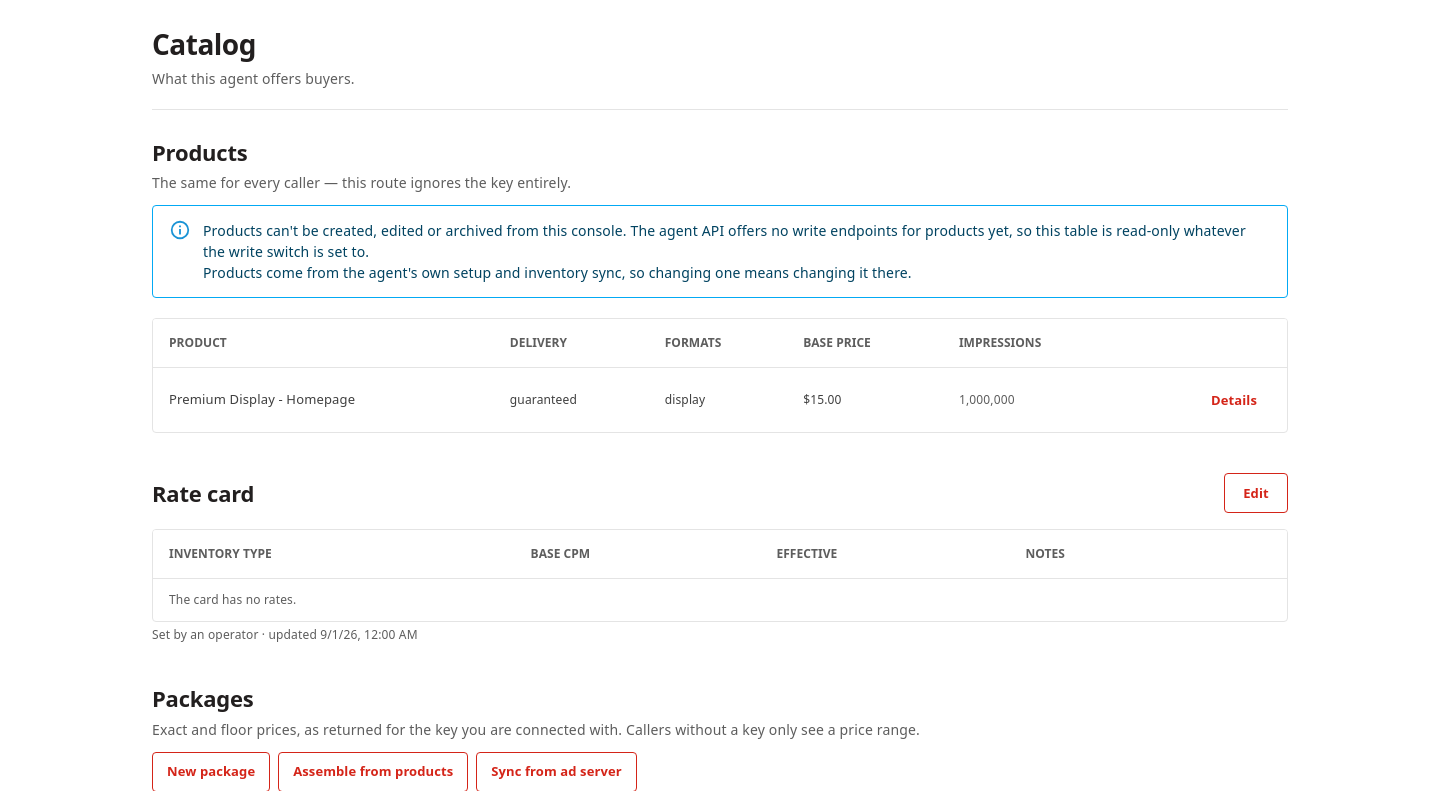
Scenario: inventory type override writes › re-reads the open product's override after deleting it
The width and height of the screenshot is (1440, 791).
Click the button "Details" at (1234, 400), box [1197, 380, 1271, 420]
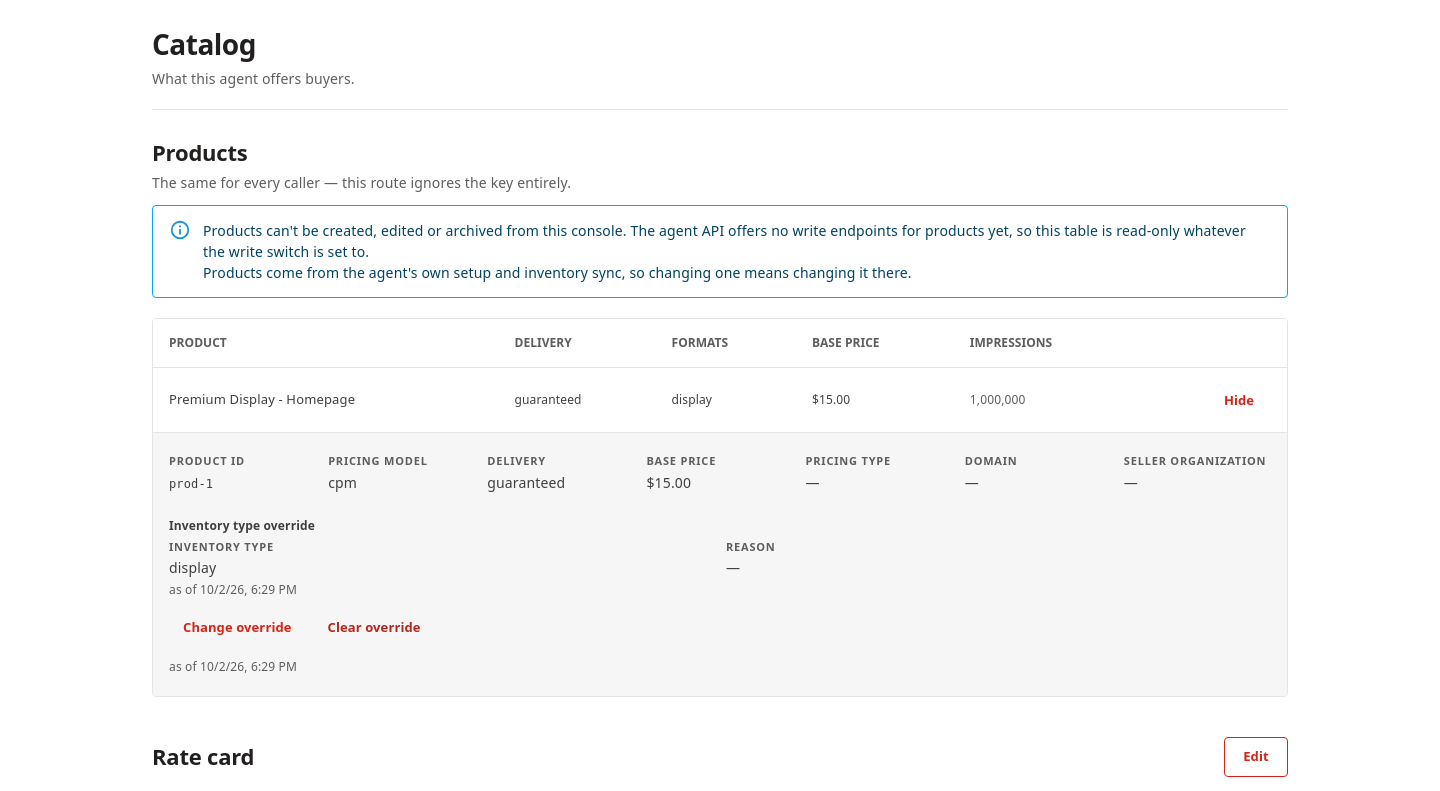
Expected: the element showing "Inventory type display Reason —" is shown, [169, 539, 776, 577]
Click the button "Clear override" at (374, 627), box [314, 607, 435, 647]
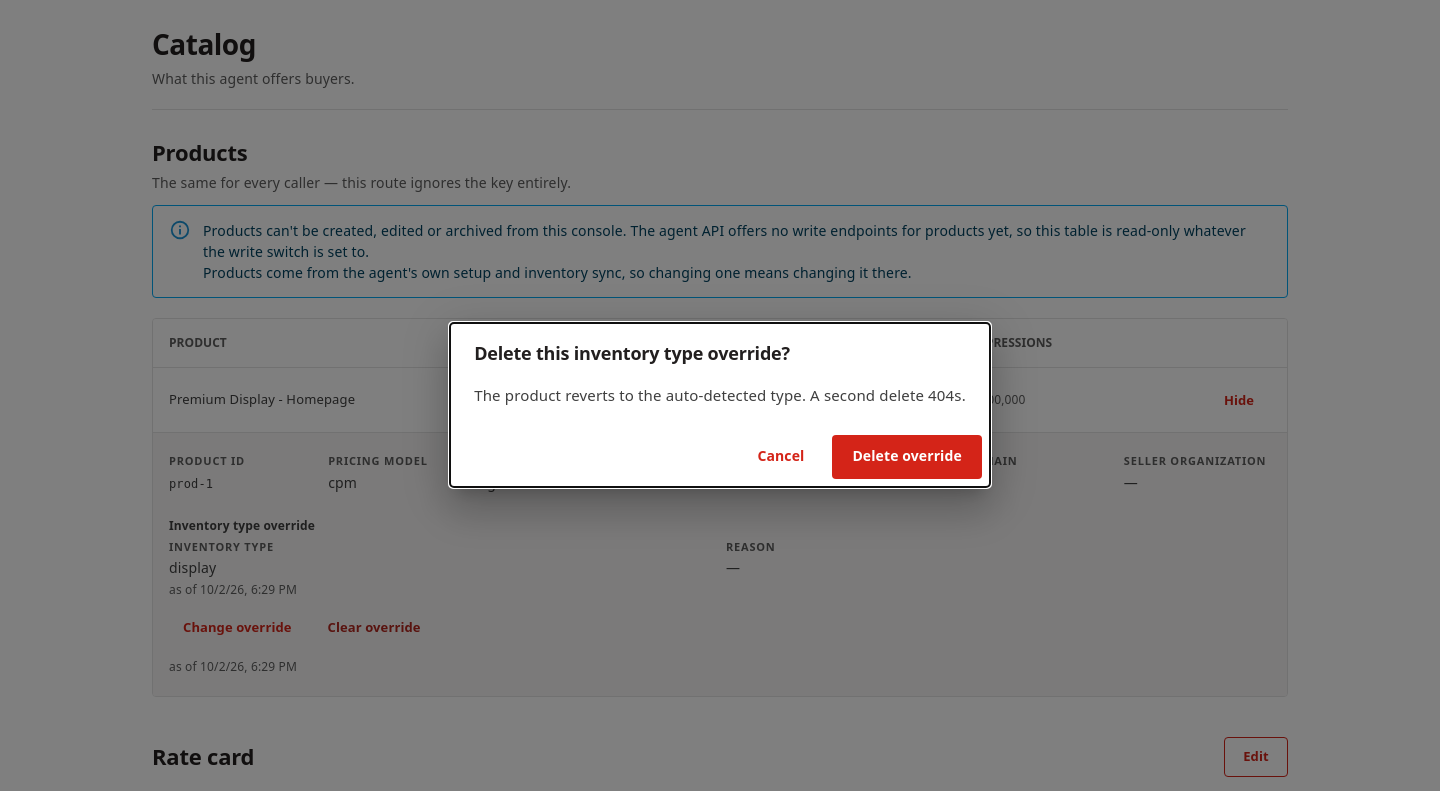
Click the button "Delete override" at (907, 457), box [832, 435, 982, 479]
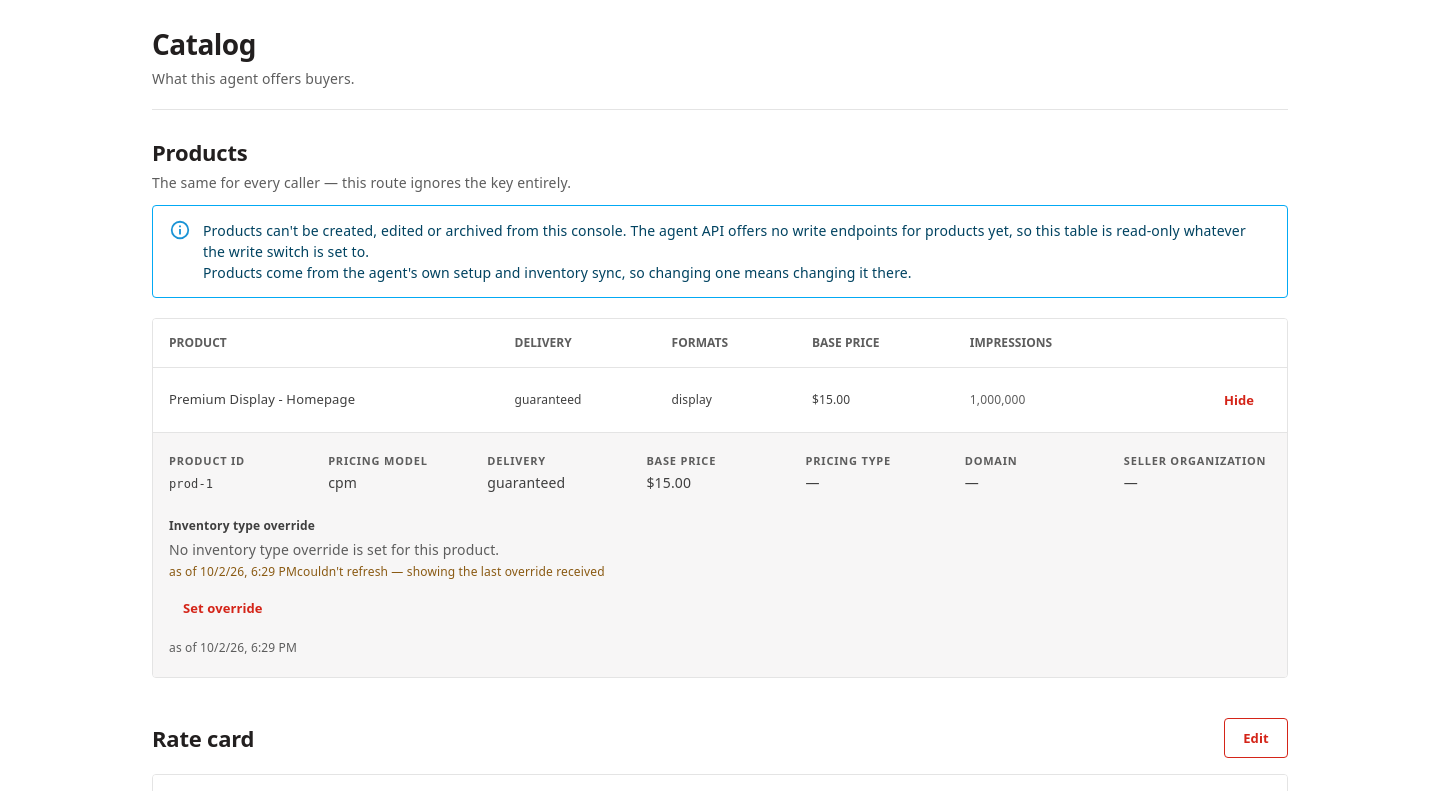
Expected: the text "No inventory type override is set for this product." is shown, [169, 540, 499, 559]
